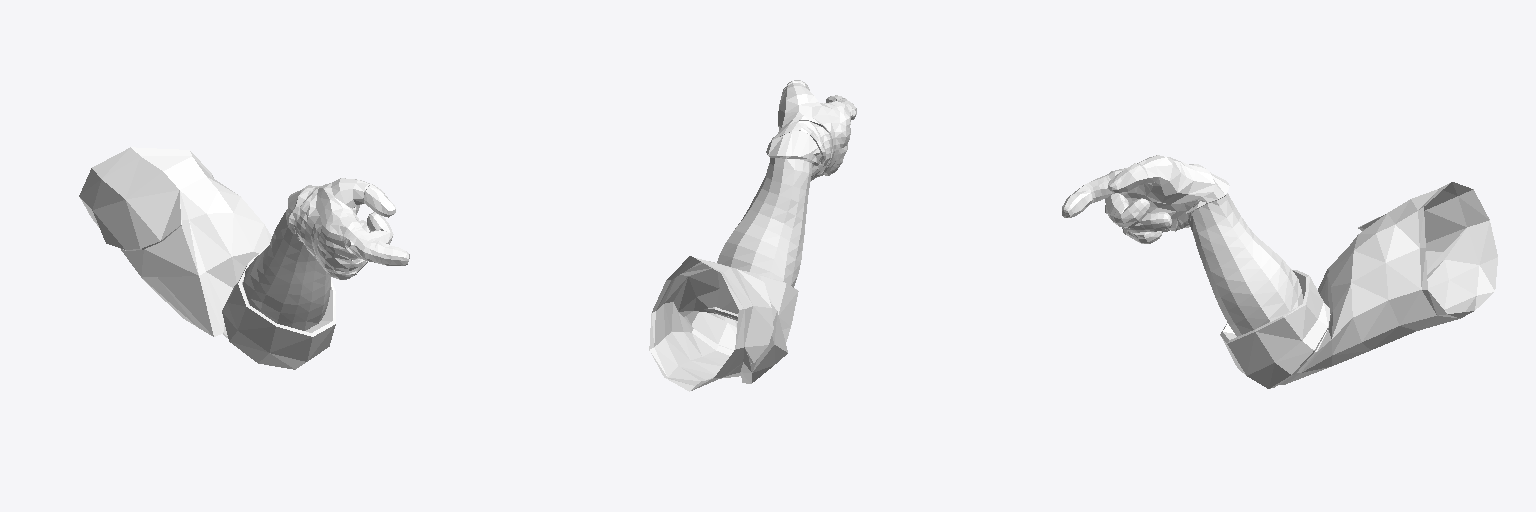
File: TRIGGER_POS.obj
The picture shows the model from 3 angles: view 1: azimuth 30°, elevation 25°; view 2: azimuth 150°, elevation 25°; view 3: azimuth 270°, elevation 25°; orthographic projection.
Parts seen in each view (by area): view 1: BF3; view 2: BF3; view 3: BF3.
Boxes of the visible parts, box(x1,y1,x2,y2) form: BF3: box(79, 147, 409, 369); BF3: box(649, 80, 856, 391); BF3: box(1062, 155, 1497, 388).
Size of the model in its own units: 8.5 by 12.82 by 22.3.